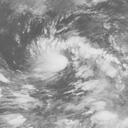cyclone: (1, 17, 123, 123)
